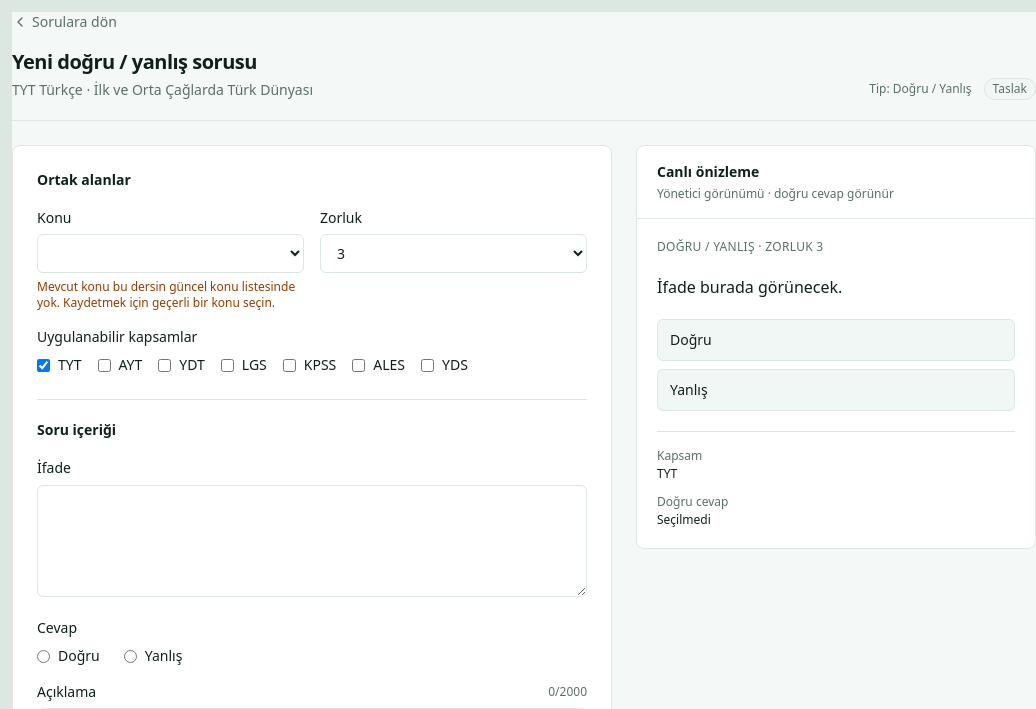
Test: true/false create editor › shows the statement and the chosen answer in the live preview
Expected: the heading "Yeni doğru / yanlış sorusu" is shown, [12,48,257,74]
Expected: the element labelled "Canlı önizleme" shows "Seçilmedi", [657,510,711,528]
In the text box labelled "İfade": (312, 540) [37,484,587,596], type "Uygurlar yerleşik hayata geçmiştir."
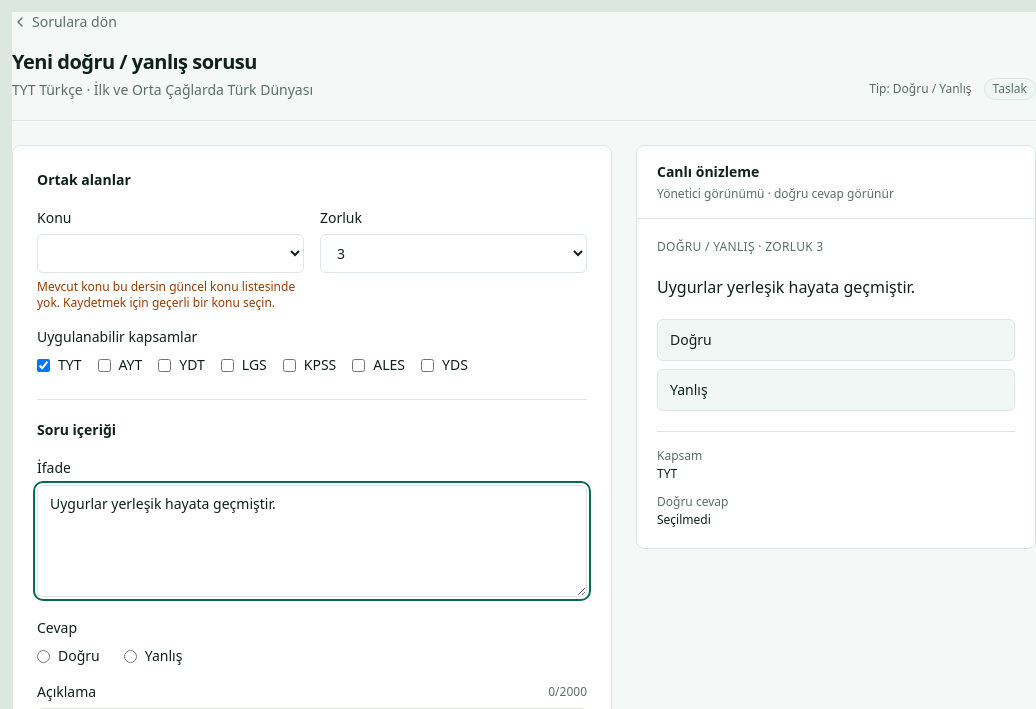
Expected: the element labelled "Canlı önizleme" shows "Uygurlar yerleşik hayata geçmiştir.", [657,276,915,298]
Click the radio button labelled "Yanlış": (130, 656) [124,650,137,662]
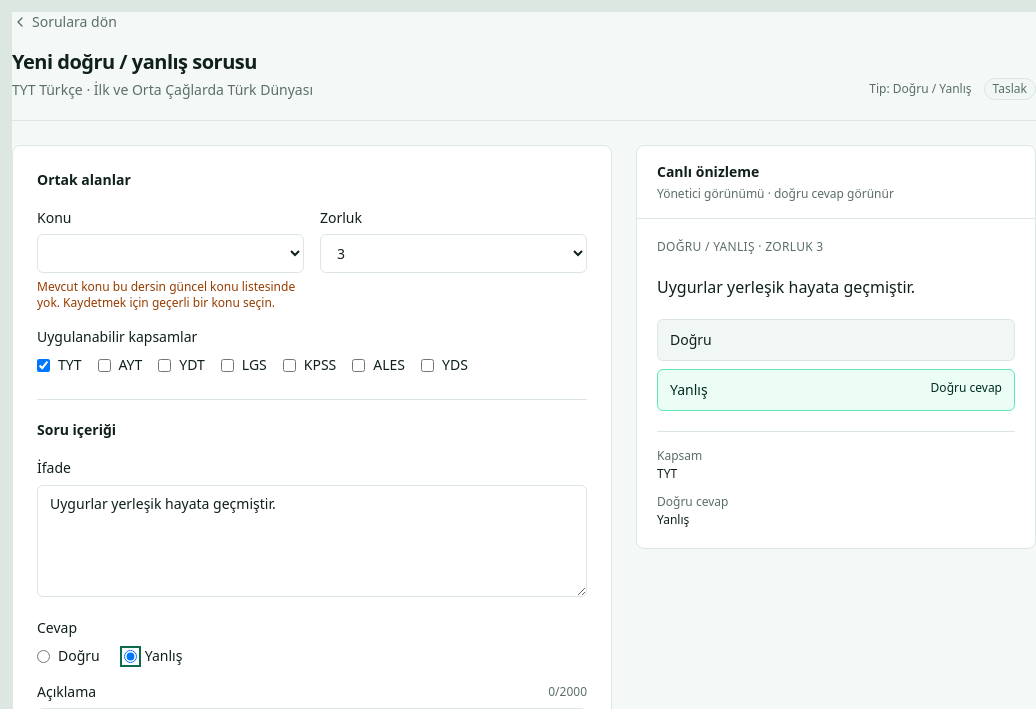
Expected: the element labelled "Canlı önizleme" shows "Yanlış", [670,380,708,398]
Expected: the text labelled "Canlı önizleme" no longer shows "Seçilmedi"
